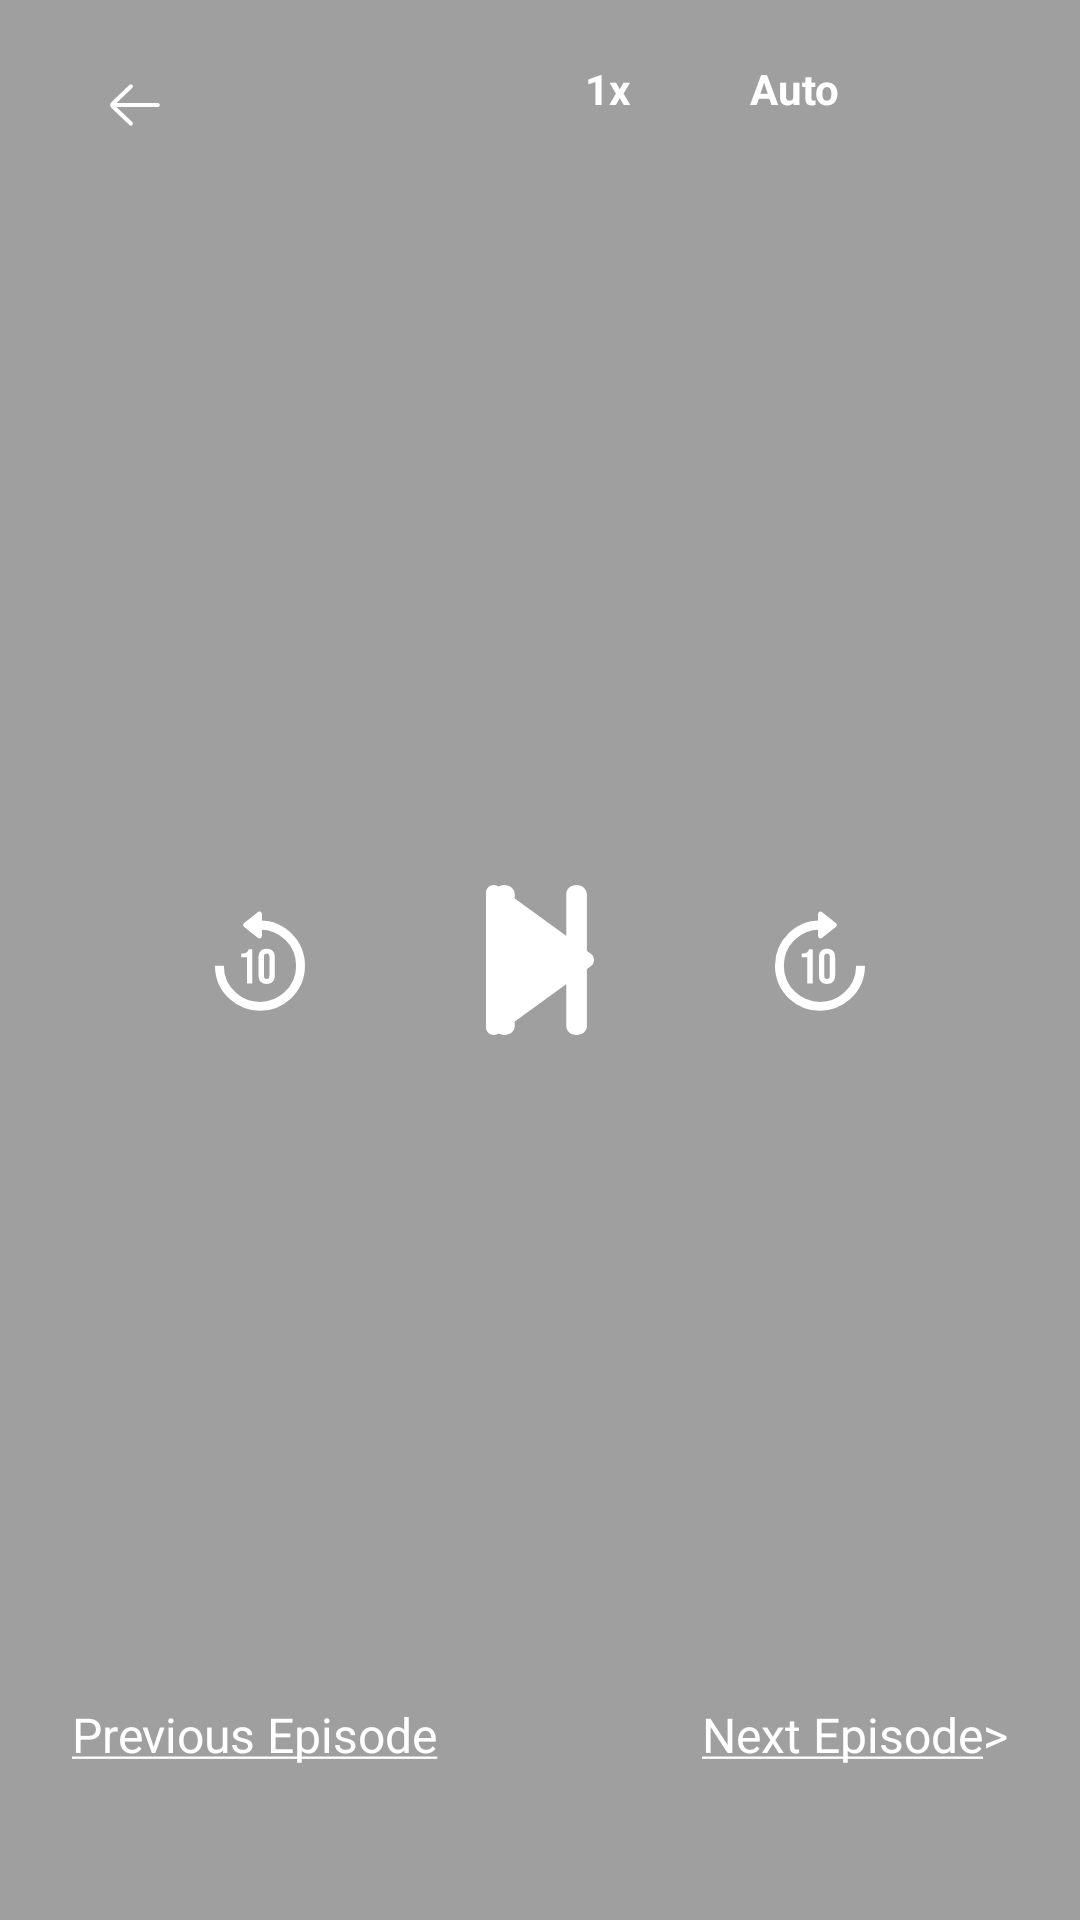

Named icons in this screenshot (1080x1920) and their bounding boxes, BBox(x1, y1, x2, y2):
arrow: BBox(110, 84, 160, 126)
seek backward: BBox(215, 911, 305, 1011)
seek forward: BBox(775, 911, 865, 1011)
